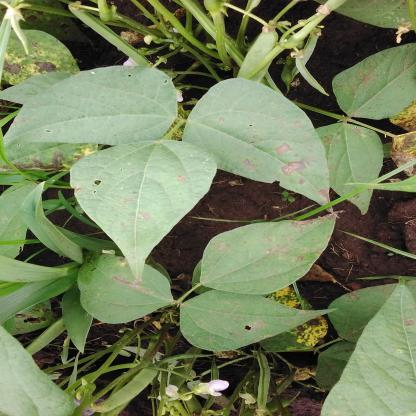Beans_Angular_LeafSpot: (70, 136, 214, 270), (183, 81, 340, 202), (198, 210, 334, 294), (180, 290, 325, 353), (316, 122, 380, 216), (335, 46, 416, 115), (83, 264, 172, 324), (0, 27, 72, 86), (0, 130, 100, 172)
